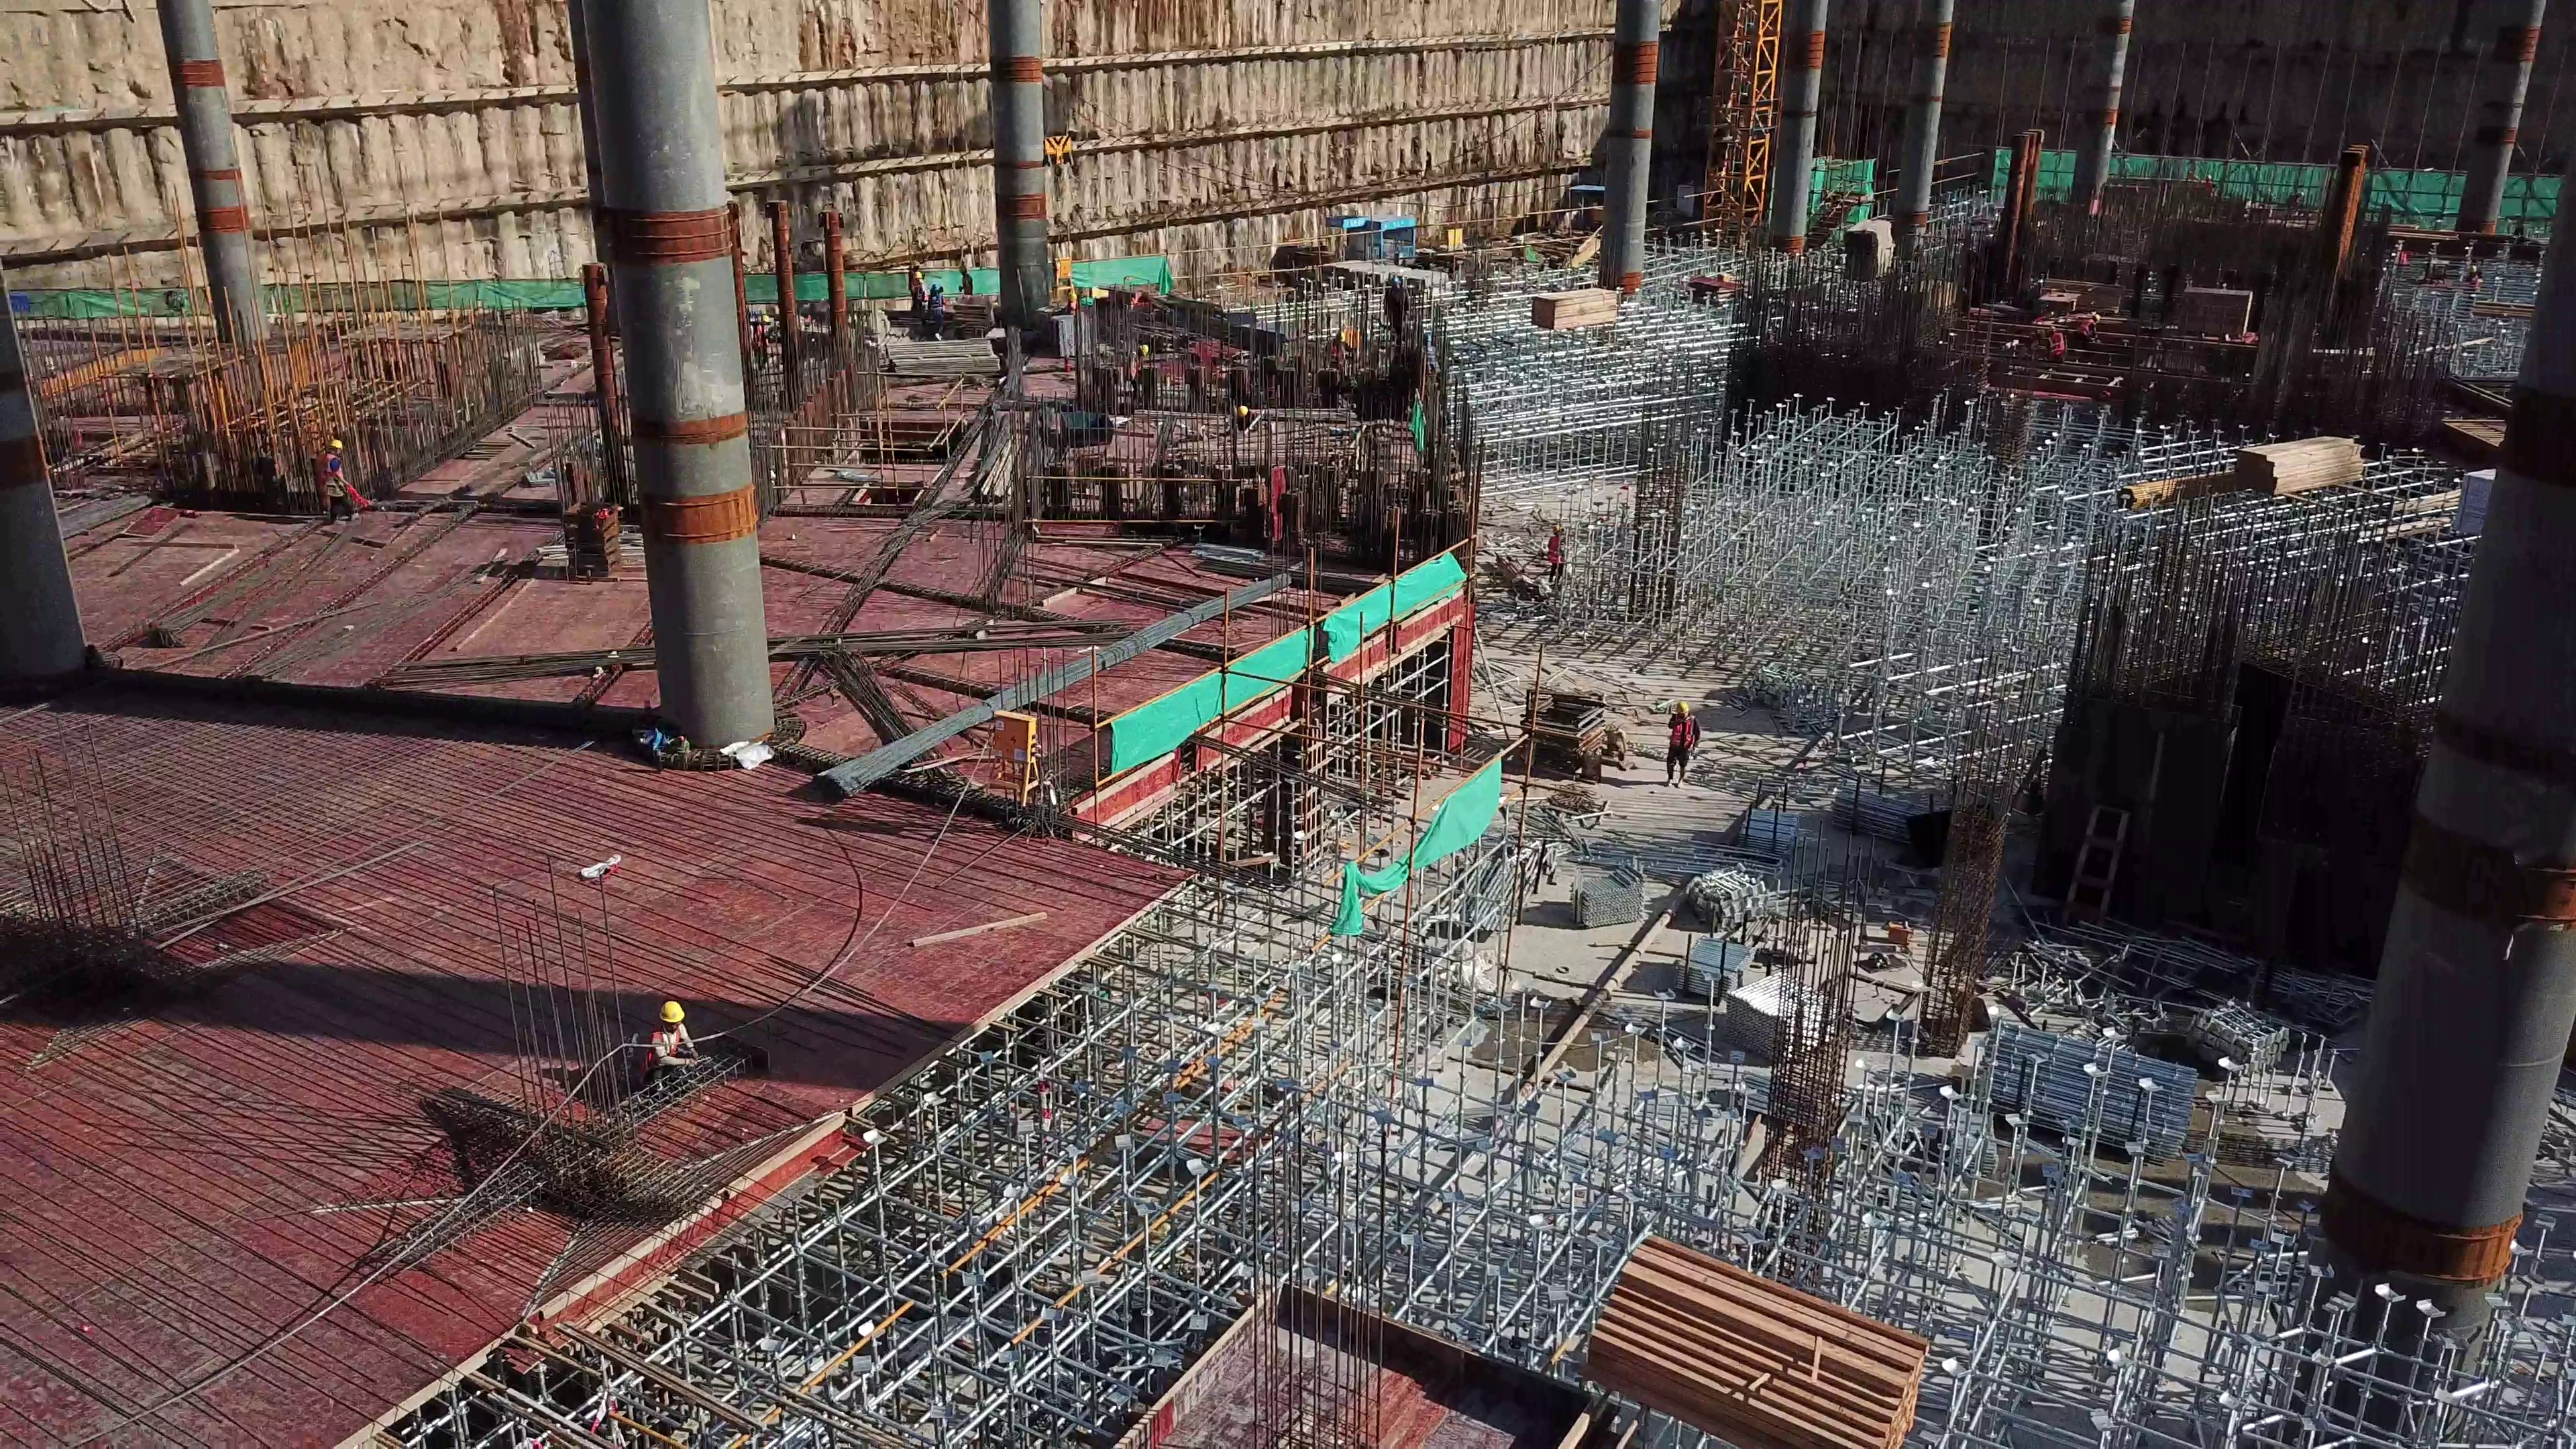board: (953, 296, 992, 331)
cutter: (2040, 288, 2084, 307)
ebox: (985, 703, 1063, 810), (1053, 249, 1074, 305), (1438, 225, 1464, 251)
helmet: (658, 998, 688, 1024), (327, 439, 345, 452), (1676, 701, 1690, 713), (929, 282, 941, 291), (913, 269, 924, 278), (2095, 312, 2102, 322), (959, 266, 968, 272), (2049, 325, 2056, 331)
person: (627, 997, 706, 1090), (316, 437, 366, 531), (1661, 696, 1705, 787), (1542, 522, 1572, 594), (907, 268, 930, 323), (928, 279, 944, 343), (2081, 311, 2109, 346), (2047, 326, 2068, 361), (955, 266, 976, 297)
rebar: (810, 579, 1299, 786), (386, 626, 1126, 687), (838, 643, 968, 810)
scaffold: (1968, 1012, 2189, 1153), (1725, 970, 1817, 1059)
vest: (639, 1032, 694, 1079), (319, 453, 350, 497), (1670, 713, 1697, 748), (1546, 535, 1566, 563), (2048, 334, 2065, 356), (912, 280, 923, 299), (2082, 317, 2095, 335), (930, 293, 944, 311)
wood: (1564, 1224, 1931, 1449), (2234, 429, 2373, 496), (1529, 285, 1627, 327), (1844, 211, 1895, 281)
